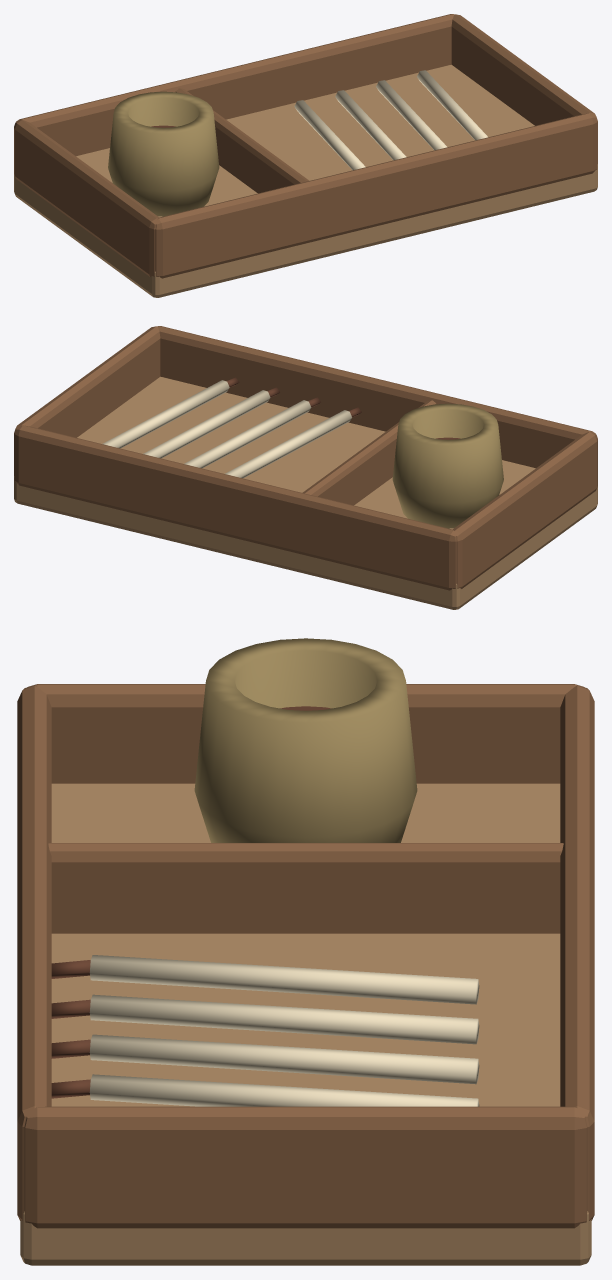
The model's file is scribe-tray.glb.
3 renders of one model, top to bottom at view 1: azimuth 30°, elevation 25°; view 2: azimuth 150°, elevation 25°; view 3: azimuth 270°, elevation 25°, orthographic. The views are drawn at different scales.
Visible parts, largest first — view 1: scribe-tray__wood, scribe-tray__woodlight, scribe-tray__bronze, scribe-tray__linen; view 2: scribe-tray__wood, scribe-tray__woodlight, scribe-tray__bronze, scribe-tray__linen, scribe-tray__slip; view 3: scribe-tray__wood, scribe-tray__woodlight, scribe-tray__bronze, scribe-tray__linen, scribe-tray__slip.
Part boxes in pixels (x1,y1,x2,y2): scribe-tray__wood: (14,14,597,278); scribe-tray__woodlight: (14,64,597,297); scribe-tray__bronze: (108,91,219,216); scribe-tray__linen: (294,70,487,170); scribe-tray__wood: (14,326,597,590); scribe-tray__woodlight: (14,376,597,609); scribe-tray__bronze: (392,403,503,528); scribe-tray__linen: (102,380,351,478); scribe-tray__slip: (226,377,460,439); scribe-tray__wood: (17,684,594,1228); scribe-tray__woodlight: (20,783,591,1265); scribe-tray__bronze: (194,638,417,842); scribe-tray__linen: (89,955,479,1106); scribe-tray__slip: (51,706,331,1098).
Size of the model in its own units: 0.724 by 0.18 by 0.404.
